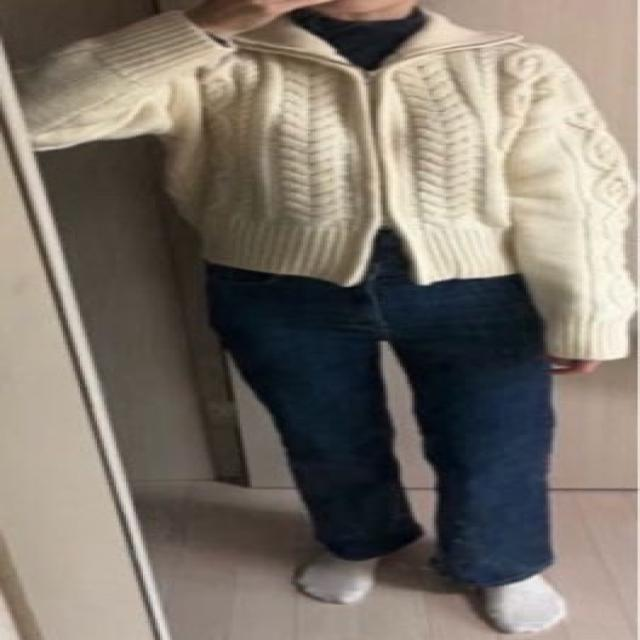cardigan: (6, 0, 640, 362)
denimpants: (198, 227, 558, 588)
